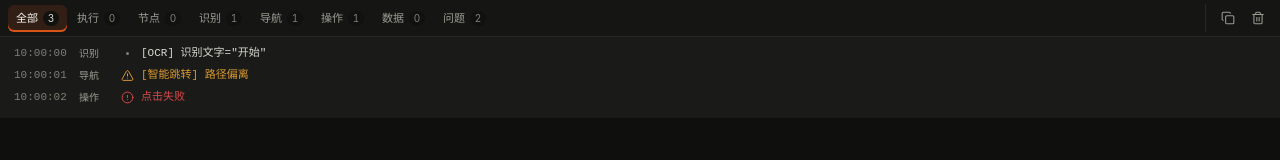
Test case: CanvasLogPanel 分类、跟随与日志操作 › 按后端分类筛选显示，问题视图跨分类聚合警告和错误
Expected: the button with class "log-filter-button" shows "3", [8,4,67,32]
Expected: the button with class "log-filter-button" shows "2", [435,4,494,32]
Click the button with class "log-filter-button" showing "识别 1": coordinates (220, 18) [191,4,250,32]
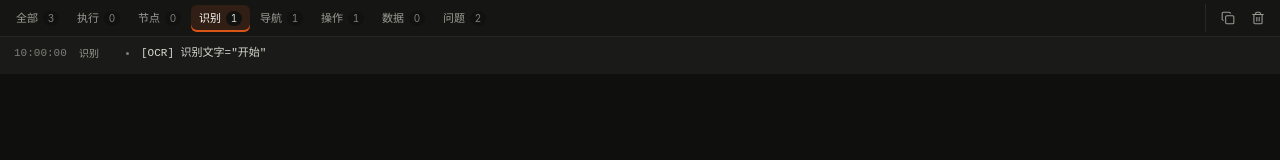
Expected: the text "识别文字=\"开始\"" is shown, [141,47,266,59]
Expected: the text "路径偏离" is gone
Click the button with class "log-filter-button" showing "问题 2": coordinates (464, 18) [435,4,494,32]
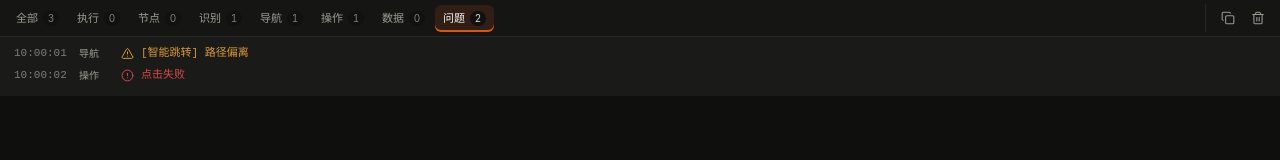
Expected: the text "路径偏离" is shown, [141,47,249,59]
Expected: the text "点击失败" is shown, [141,69,185,81]
Expected: the text "识别文字=\"开始\"" is gone
